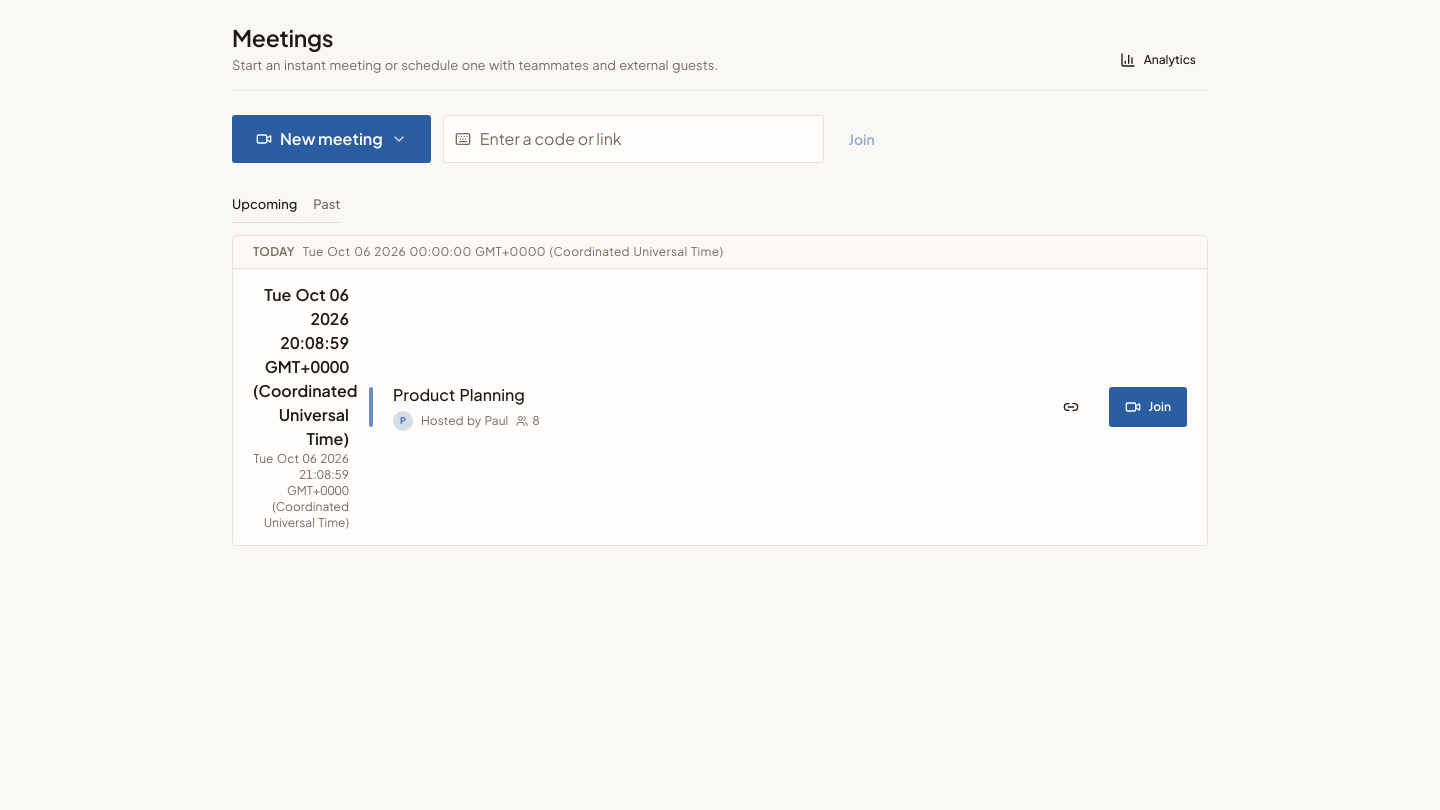
Scenario: MeetingsPageClient › New meeting menu: schedule for later opens the scheduling dialog
Click the button "New meeting": coordinates (331, 139) [232, 115, 431, 163]
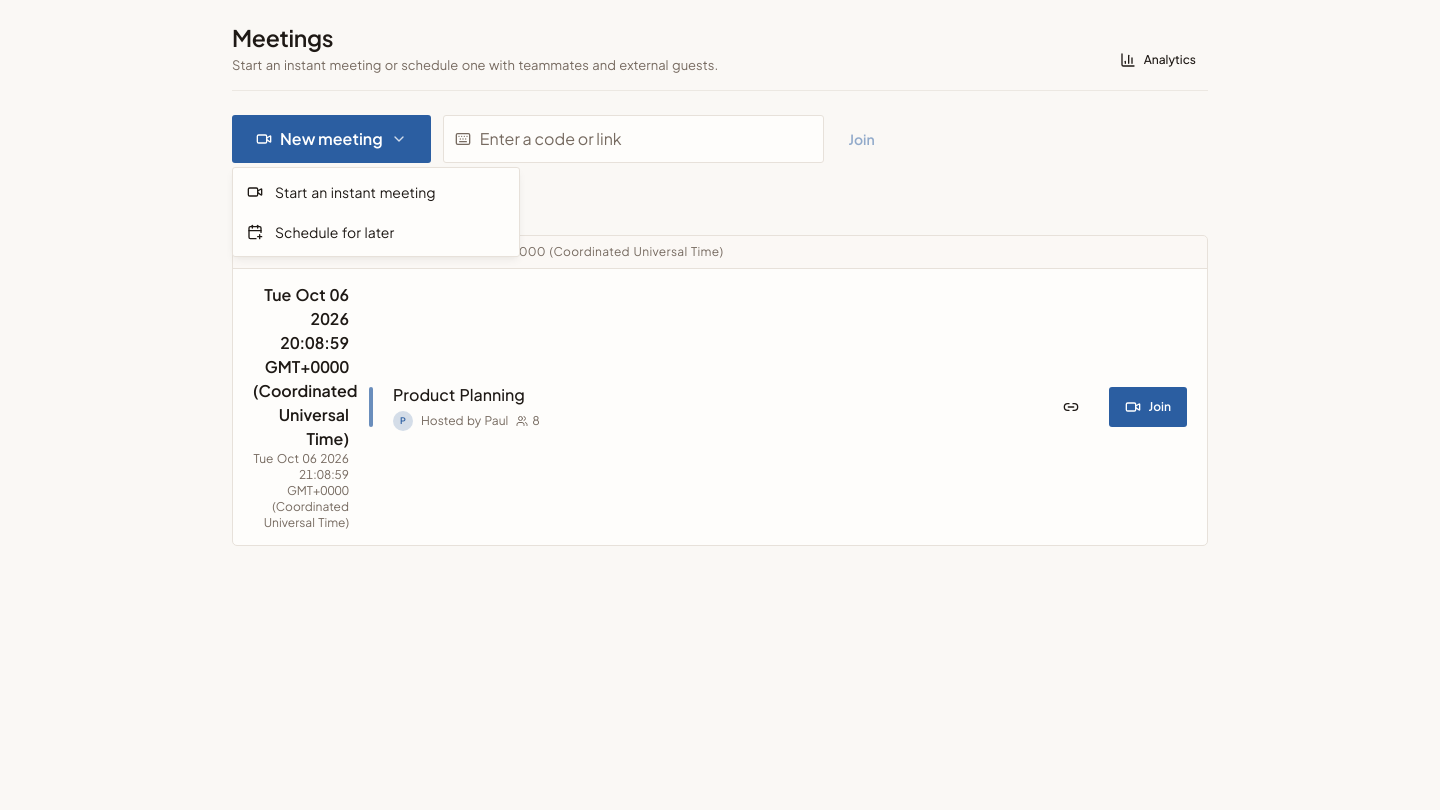
Click the menu item "Schedule for later": coordinates (321, 232) [247, 223, 394, 241]
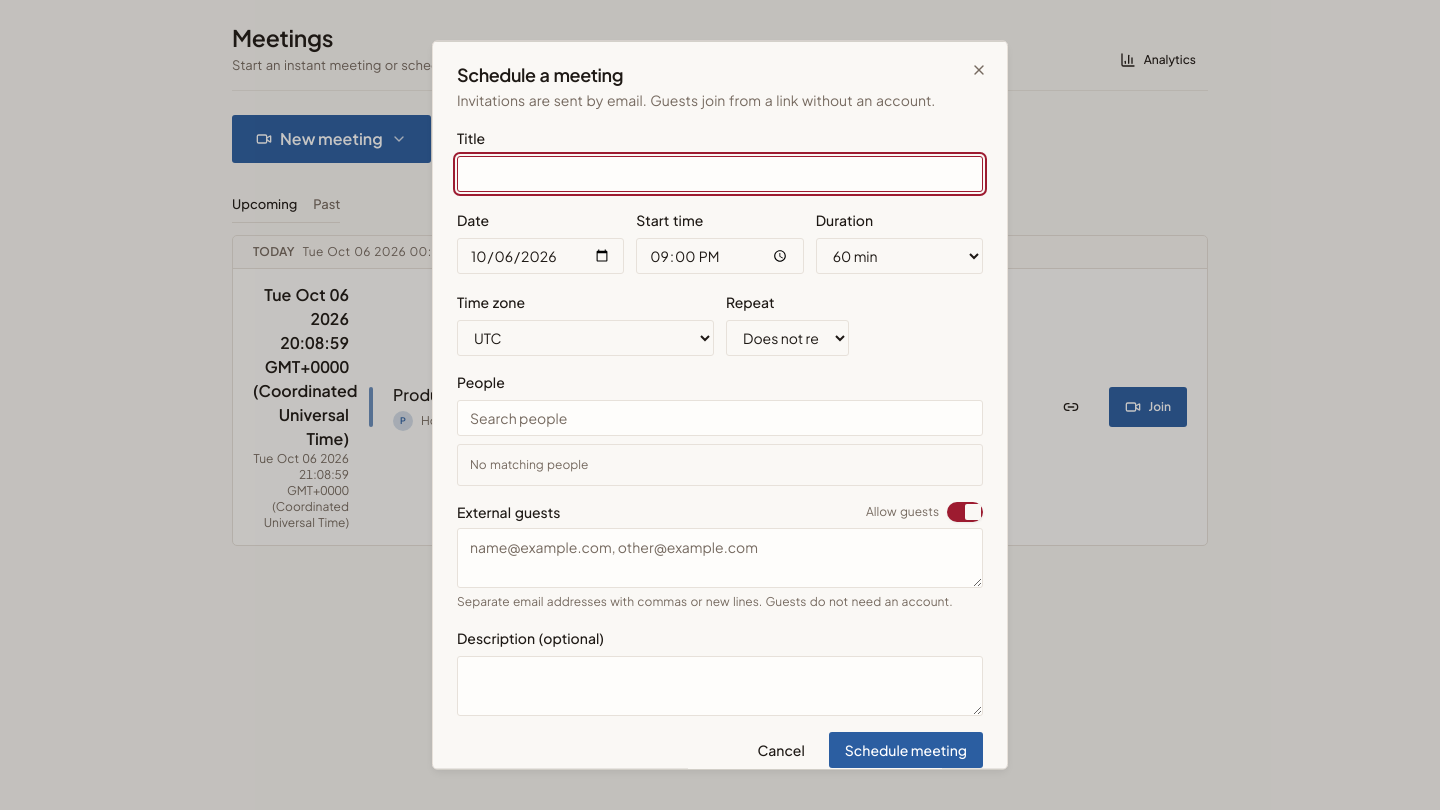
Result: the dialog is shown at [432, 40, 1008, 770]
